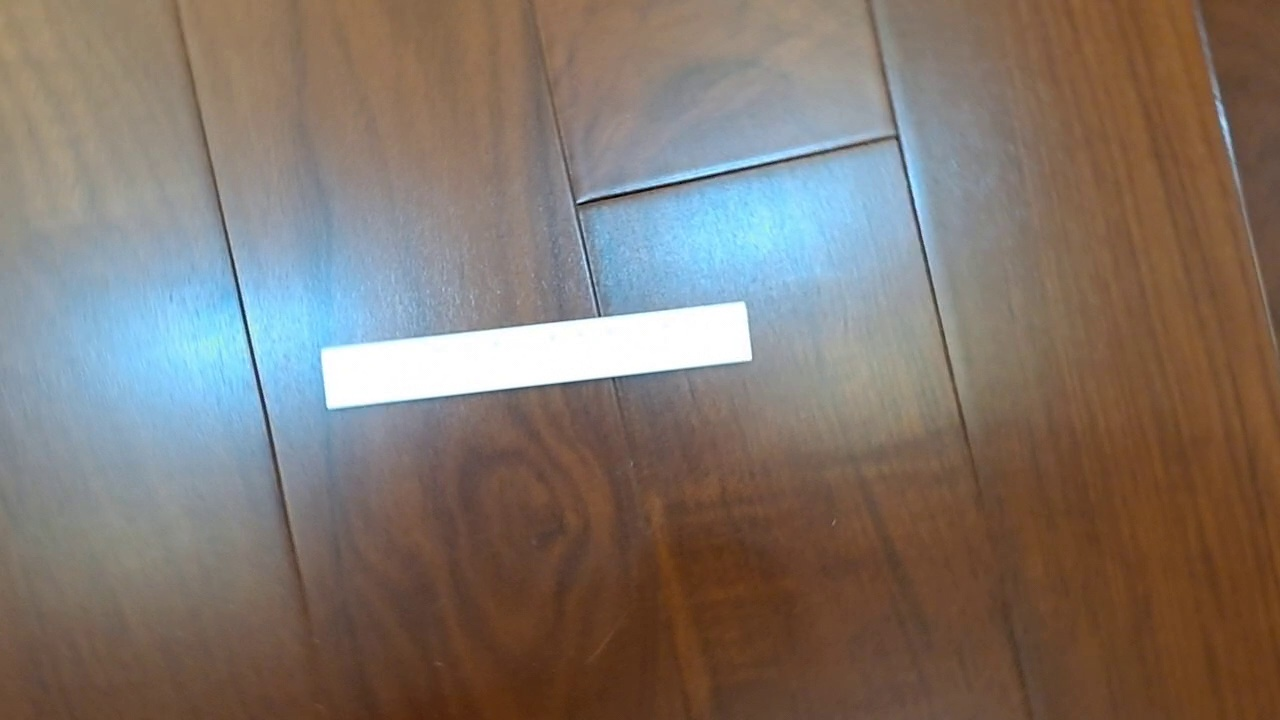ruler: (319, 298, 754, 411)
